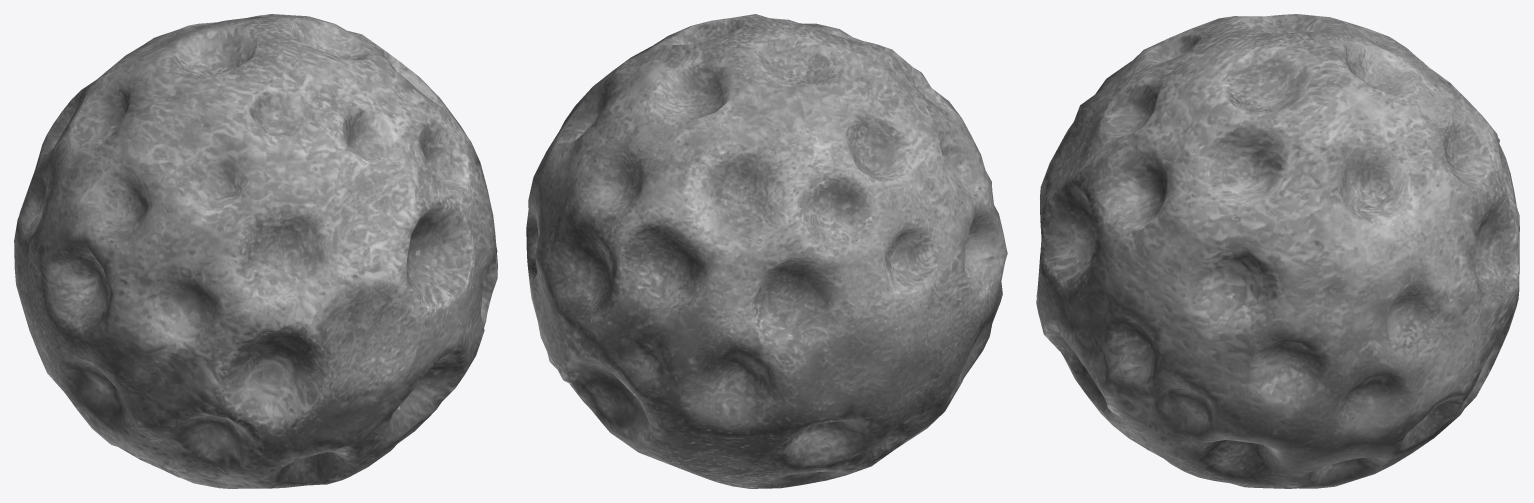
File: big_01.glb
The picture shows the model from 3 angles, left to right: view 1: azimuth 30°, elevation 25°; view 2: azimuth 150°, elevation 25°; view 3: azimuth 270°, elevation 25°; orthographic projection.
Visible parts, largest first — view 1: big_01; view 2: big_01; view 3: big_01.
Boxes of the visible parts, box(x1,y1,x2,y2) form: big_01: box(14, 14, 497, 488); big_01: box(526, 14, 1007, 488); big_01: box(1036, 14, 1519, 488).
Bounding box in the file's own units: 1.94 × 1.92 × 1.93.
Materials: 1 (1 with a texture image).
